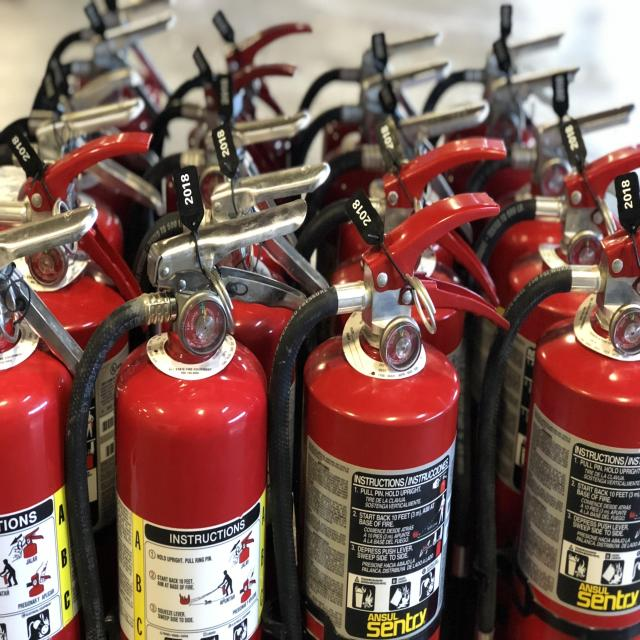fire_extinguisher: (261, 187, 518, 640), (57, 196, 310, 640), (456, 139, 640, 640), (0, 124, 160, 640), (465, 222, 640, 640), (0, 199, 103, 639)
